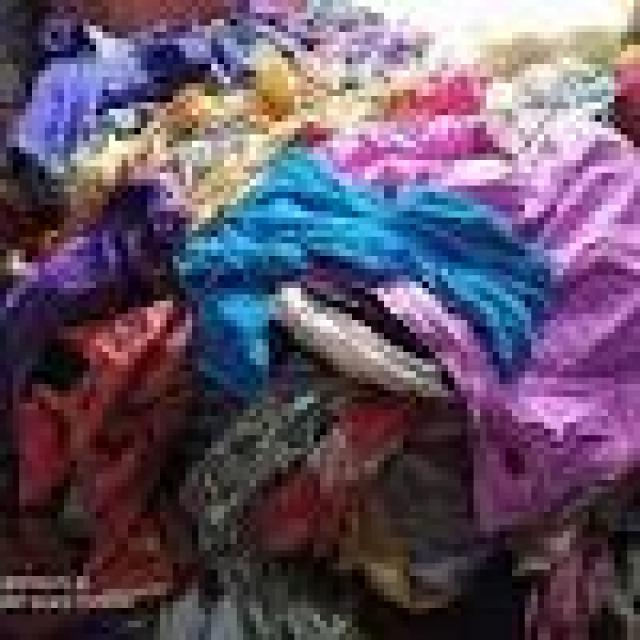Clothes -Biodegradable-: (2, 0, 639, 639)
